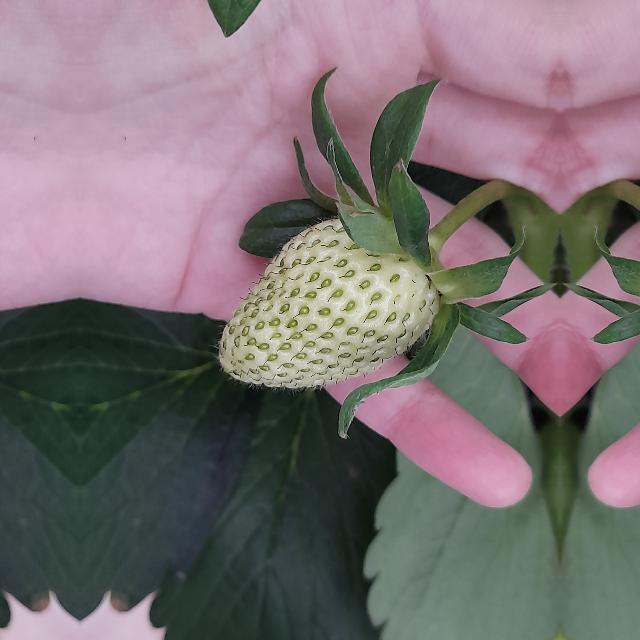Health_25: (217, 218, 438, 388)
